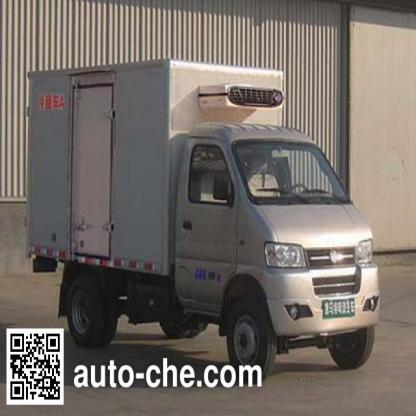normal-truck: (25, 49, 409, 327)
